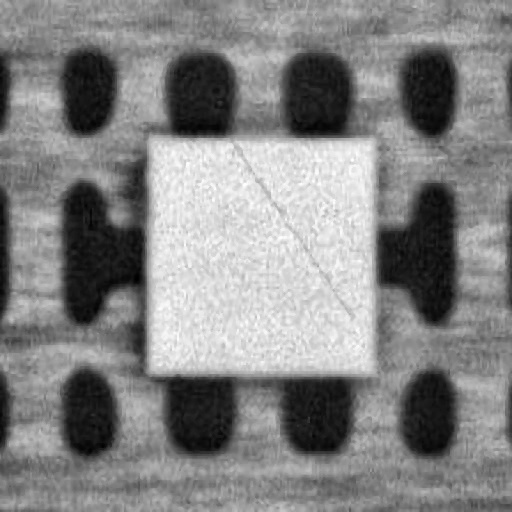DIE_CRACK: (347, 94, 512, 211)
